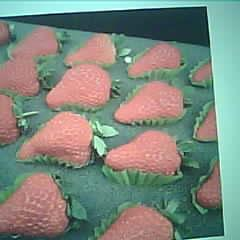straw-ripe: (0, 174, 69, 238), (19, 114, 92, 164), (105, 131, 182, 176), (115, 82, 185, 123), (48, 64, 110, 108)
